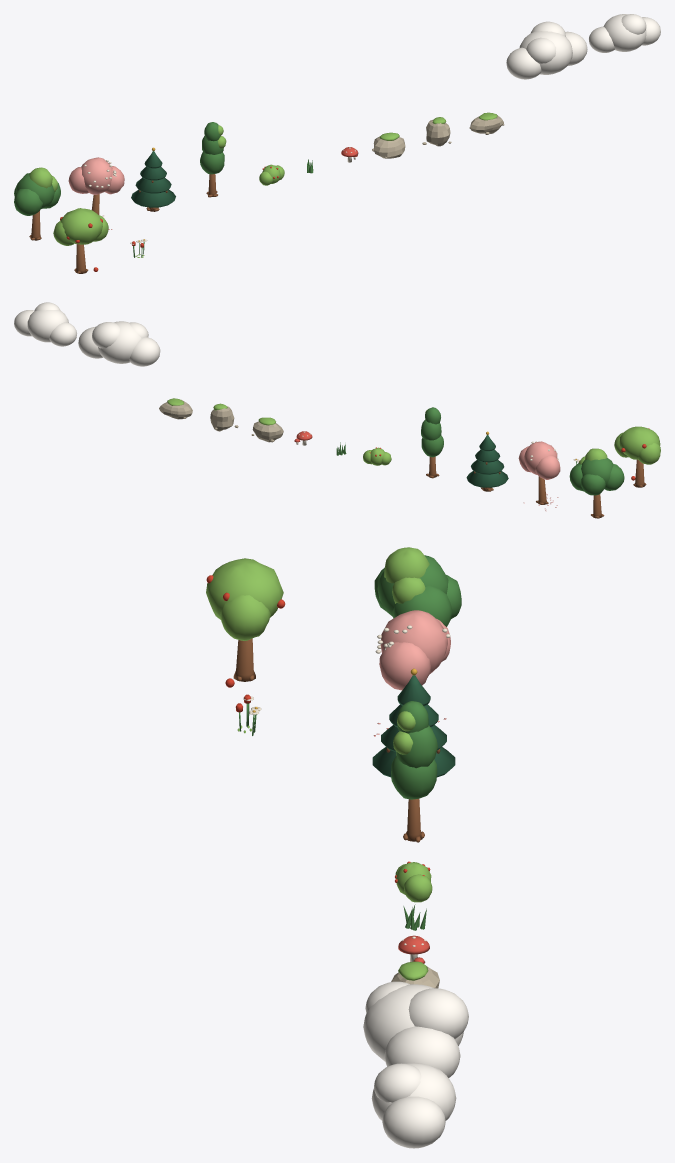
File: nature.glb
3 renders of one model, top to bottom at view 1: azimuth 30°, elevation 25°; view 2: azimuth 150°, elevation 25°; view 3: azimuth 270°, elevation 25°, orthographic. The views are drawn at different scales.
Parts seen in each view (by area): view 1: Cloud_0_Puffs, Cloud_1_Puffs, Tree_Apple_Crown, Tree_Blossom_Crown, Tree_Pine_Crown, Tree_Round_Crown, Tree_Tall_Crown, Rock_0_Stone, Rock_1_Stone, Rock_2_Stone, Tree_Round_Light, Bush_Leaves; view 2: Cloud_0_Puffs, Cloud_1_Puffs, Tree_Round_Crown, Tree_Apple_Crown, Tree_Pine_Crown, Tree_Blossom_Crown, Tree_Tall_Crown, Rock_1_Stone, Rock_0_Stone, Rock_2_Stone, Bush_Leaves; view 3: Cloud_0_Puffs, Cloud_1_Puffs, Tree_Apple_Crown, Tree_Blossom_Crown, Tree_Tall_Crown, Tree_Round_Crown, Tree_Pine_Crown, Tree_Round_Light, Bush_Leaves.
Part boxes in pixels (box(x1,y1,x2,y2)): Cloud_0_Puffs: box(506, 21, 587, 79); Cloud_1_Puffs: box(589, 14, 660, 52); Tree_Apple_Crown: box(53, 208, 108, 245); Tree_Blossom_Crown: box(68, 157, 124, 194); Tree_Pine_Crown: box(131, 151, 175, 207); Tree_Round_Crown: box(14, 173, 60, 215); Tree_Tall_Crown: box(200, 122, 224, 174); Rock_0_Stone: box(373, 136, 405, 158); Rock_1_Stone: box(426, 120, 450, 146); Rock_2_Stone: box(470, 115, 503, 133); Tree_Round_Light: box(29, 167, 57, 191); Bush_Leaves: box(259, 164, 284, 185); Cloud_0_Puffs: box(78, 321, 160, 366); Cloud_1_Puffs: box(14, 302, 76, 346); Tree_Round_Crown: box(569, 458, 624, 495); Tree_Apple_Crown: box(614, 426, 660, 464); Tree_Pine_Crown: box(466, 435, 508, 487); Tree_Blossom_Crown: box(518, 441, 560, 479); Tree_Tall_Crown: box(421, 407, 443, 457); Rock_1_Stone: box(210, 406, 234, 431); Rock_0_Stone: box(252, 421, 283, 442); Rock_2_Stone: box(159, 399, 192, 419); Bush_Leaves: box(363, 447, 391, 465); Cloud_0_Puffs: box(363, 981, 468, 1077); Cloud_1_Puffs: box(371, 1062, 456, 1148); Tree_Apple_Crown: box(206, 558, 283, 640); Tree_Blossom_Crown: box(379, 610, 450, 690); Tree_Tall_Crown: box(391, 701, 437, 799); Tree_Round_Crown: box(374, 555, 461, 626); Tree_Pine_Crown: box(372, 675, 455, 777); Tree_Round_Light: box(384, 547, 429, 603); Bush_Leaves: box(395, 862, 432, 902).
Size of the model in its own units: 32.95 by 4.39 by 6.22.
